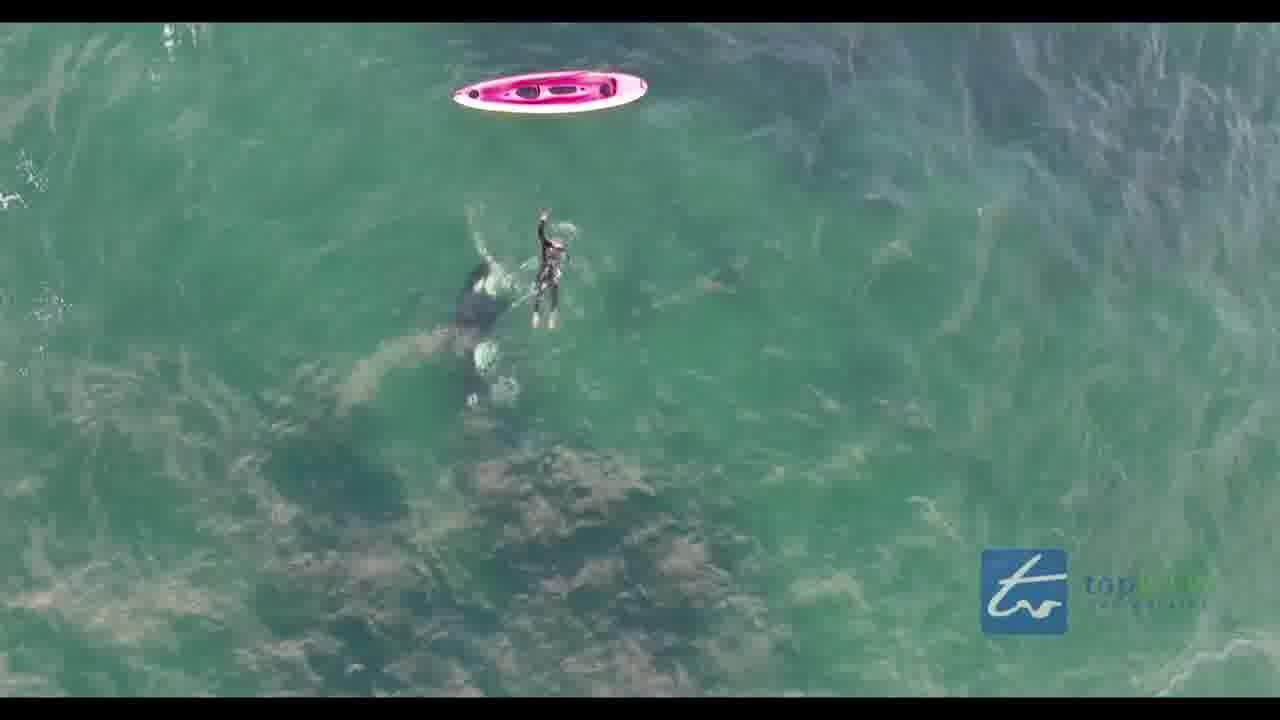human: (524, 197, 569, 332)
